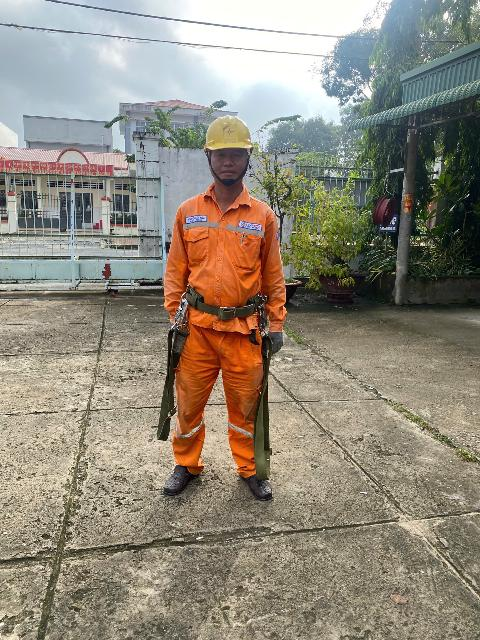gloves: (262, 328, 288, 355)
harness: (172, 283, 273, 320)
helmet: (192, 109, 272, 159)
shoes: (230, 466, 283, 504), (155, 459, 203, 497)
